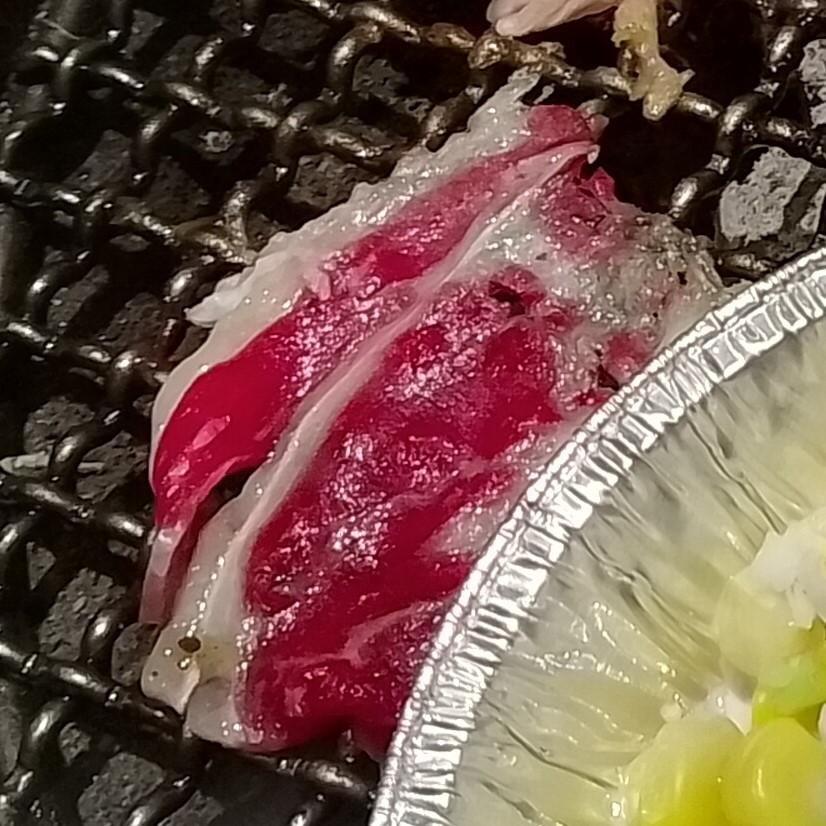Undercooked: (139, 77, 725, 758)
